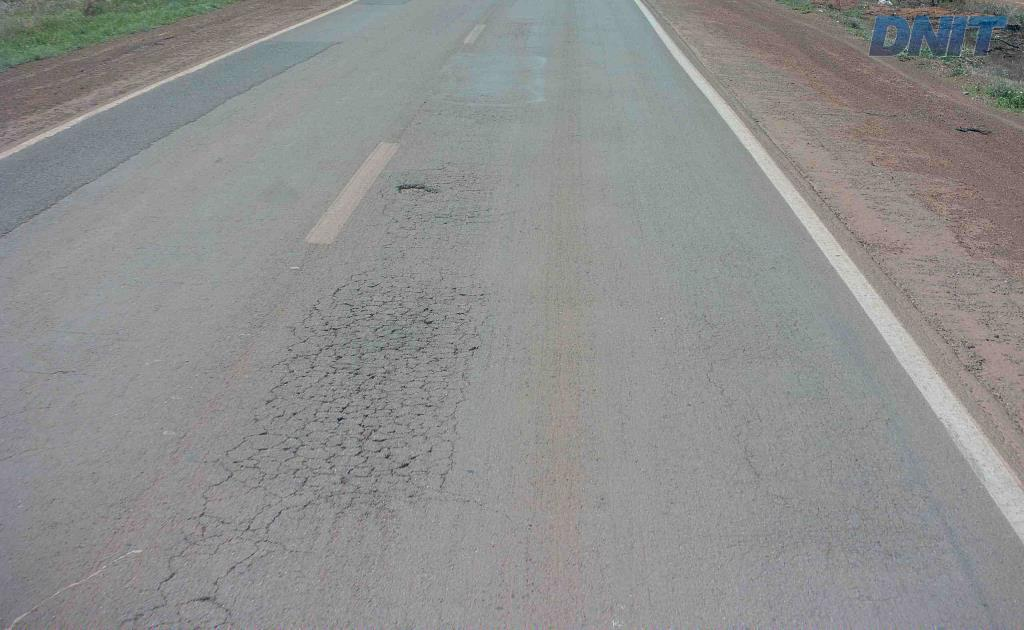crack: (346, 295, 440, 379), (353, 412, 387, 463), (347, 365, 390, 399)
pothole: (396, 179, 442, 197)
